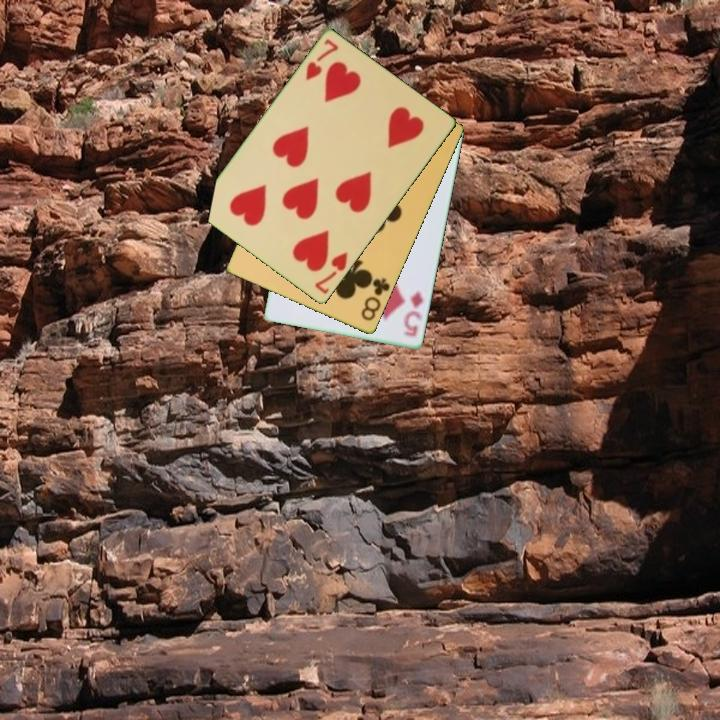5d: (400, 288, 426, 340)
7h: (311, 249, 351, 297), (302, 36, 341, 84)
8c: (357, 274, 393, 324)
